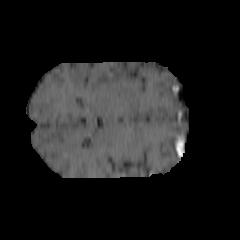glioma: (78, 77, 164, 129)
